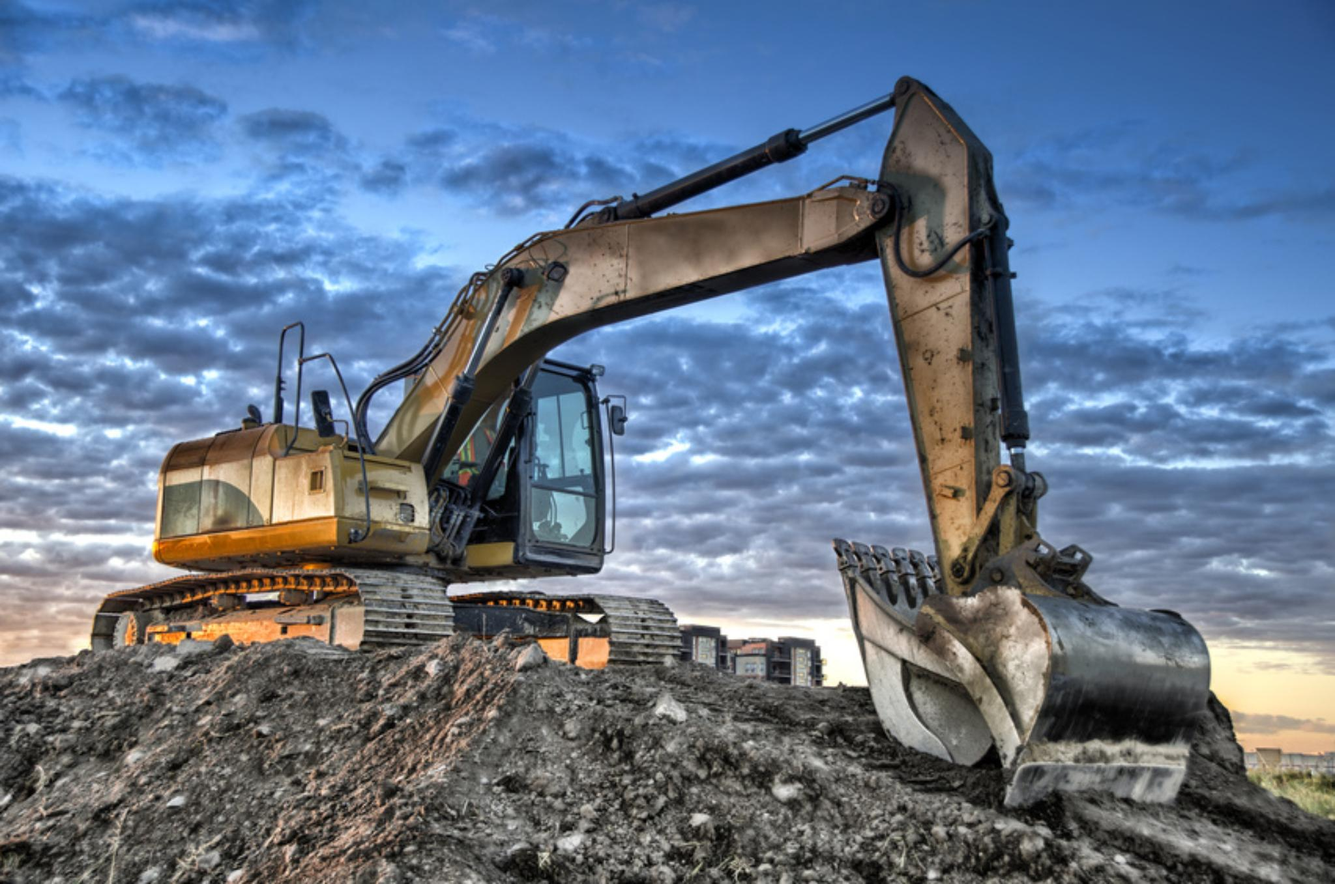excavator: (51, 73, 1335, 811)
